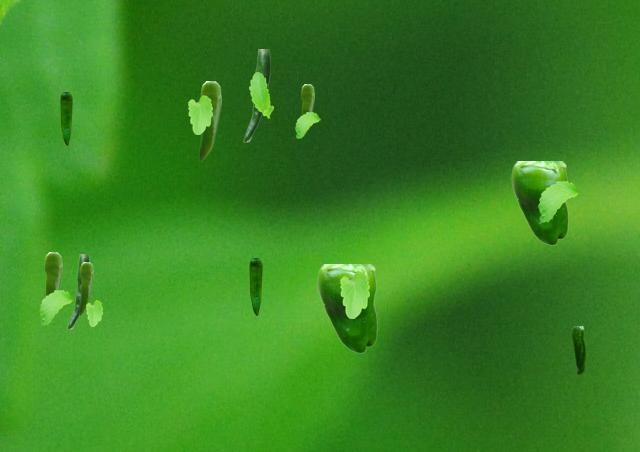green_chili: (317, 264, 376, 352), (511, 161, 567, 244), (243, 49, 269, 141), (199, 81, 220, 160), (67, 254, 88, 328), (44, 252, 61, 296), (79, 262, 92, 314), (249, 258, 261, 314), (300, 84, 313, 133), (60, 92, 71, 144), (572, 326, 584, 373)
